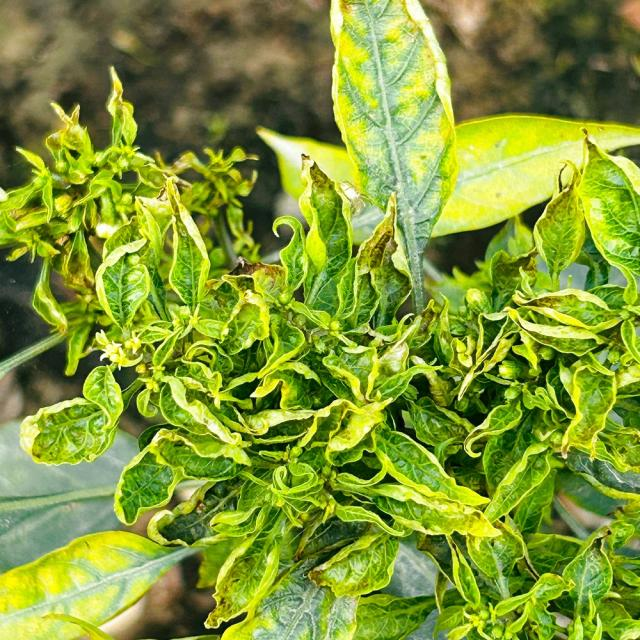Chilli_Leaf_Curl: (1, 3, 638, 638), (255, 109, 638, 244), (327, 0, 460, 317), (0, 528, 203, 638), (17, 364, 124, 466)
